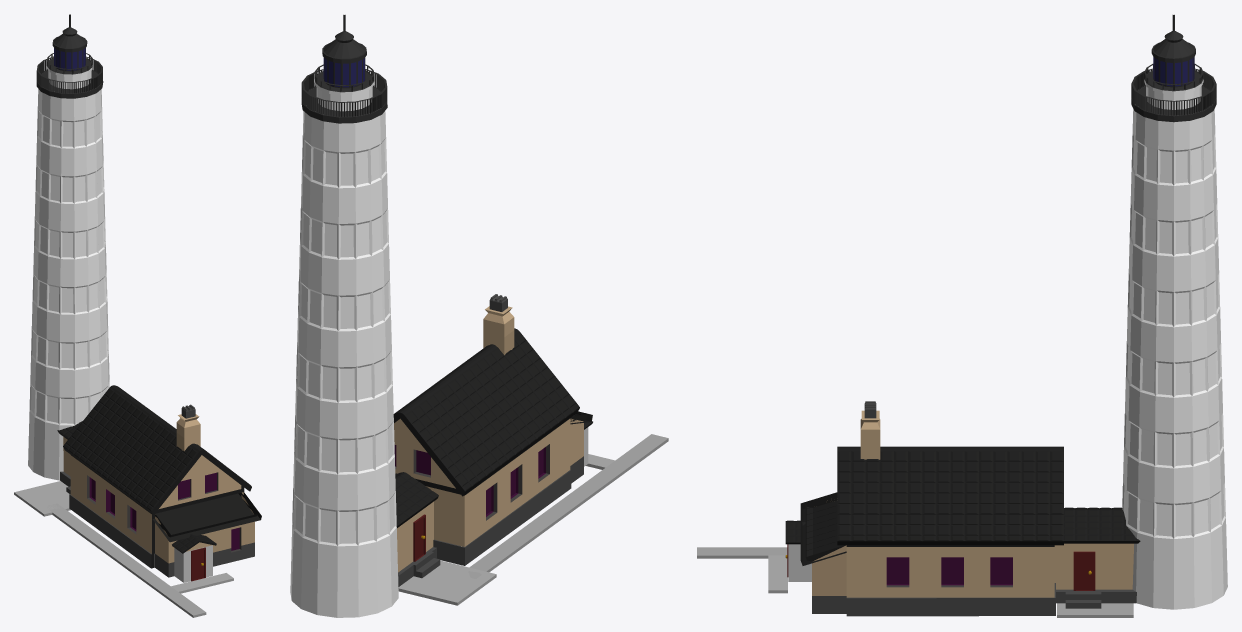
Rendered from House.glb.
3 renders of one model, left to right at view 1: azimuth 30°, elevation 25°; view 2: azimuth 150°, elevation 25°; view 3: azimuth 270°, elevation 25°, orthographic. The views are drawn at different scales.
Visible parts, largest first — view 1: Bottom, Roof, Base, Small Roof, Top, Sidewalk.003, Base.001, Sidewalk.002, Top.001, Chimney, Front Breezeway, Sidewalk (+3 smaller); view 2: Bottom, Roof, Base, Top, Sidewalk.003, Back breezeway, Sidewalk.002, Top.001, Chimney, Base.001, Door.002; view 3: Bottom, Roof, Base, Back breezeway, Top, Small Roof, Base.001, Top.001, Chimney, Sidewalk.003, Sidewalk.001, Door.001 (+1 smaller).
Part boxes in pixels (x1,y1,x2,y2): Bottom: (28, 14, 109, 480); Roof: (63, 385, 251, 515); Base: (69, 455, 244, 568); Small Roof: (153, 492, 261, 542); Top: (36, 14, 103, 98); Sidewalk.003: (47, 503, 206, 617); Base.001: (155, 495, 254, 577); Sidewalk.002: (14, 481, 70, 516); Top.001: (36, 56, 102, 93); Chimney: (176, 404, 200, 451); Front Breezeway: (174, 545, 212, 582); Sidewalk: (170, 573, 233, 593); Bottom: (290, 14, 398, 617); Roof: (393, 328, 579, 496); Base: (394, 418, 571, 565); Top: (301, 15, 387, 123); Sidewalk.003: (468, 434, 668, 578); Back breezeway: (395, 472, 440, 586); Sidewalk.002: (398, 560, 496, 605); Top.001: (301, 69, 387, 117); Chimney: (483, 294, 514, 355); Base.001: (570, 418, 583, 483); Door.002: (413, 514, 425, 561); Bottom: (1122, 14, 1227, 609); Roof: (837, 446, 1063, 545); Base: (846, 545, 1055, 616); Back breezeway: (1054, 507, 1140, 608); Top: (1131, 15, 1216, 122); Small Roof: (800, 492, 846, 565); Base.001: (812, 500, 846, 613); Top.001: (1131, 68, 1216, 116); Chimney: (860, 401, 880, 459); Sidewalk.003: (697, 547, 787, 558); Sidewalk.001: (1057, 603, 1133, 617); Door.001: (1073, 551, 1095, 590).
Size of the model in its own units: 8.33 by 29.44 by 24.61.
